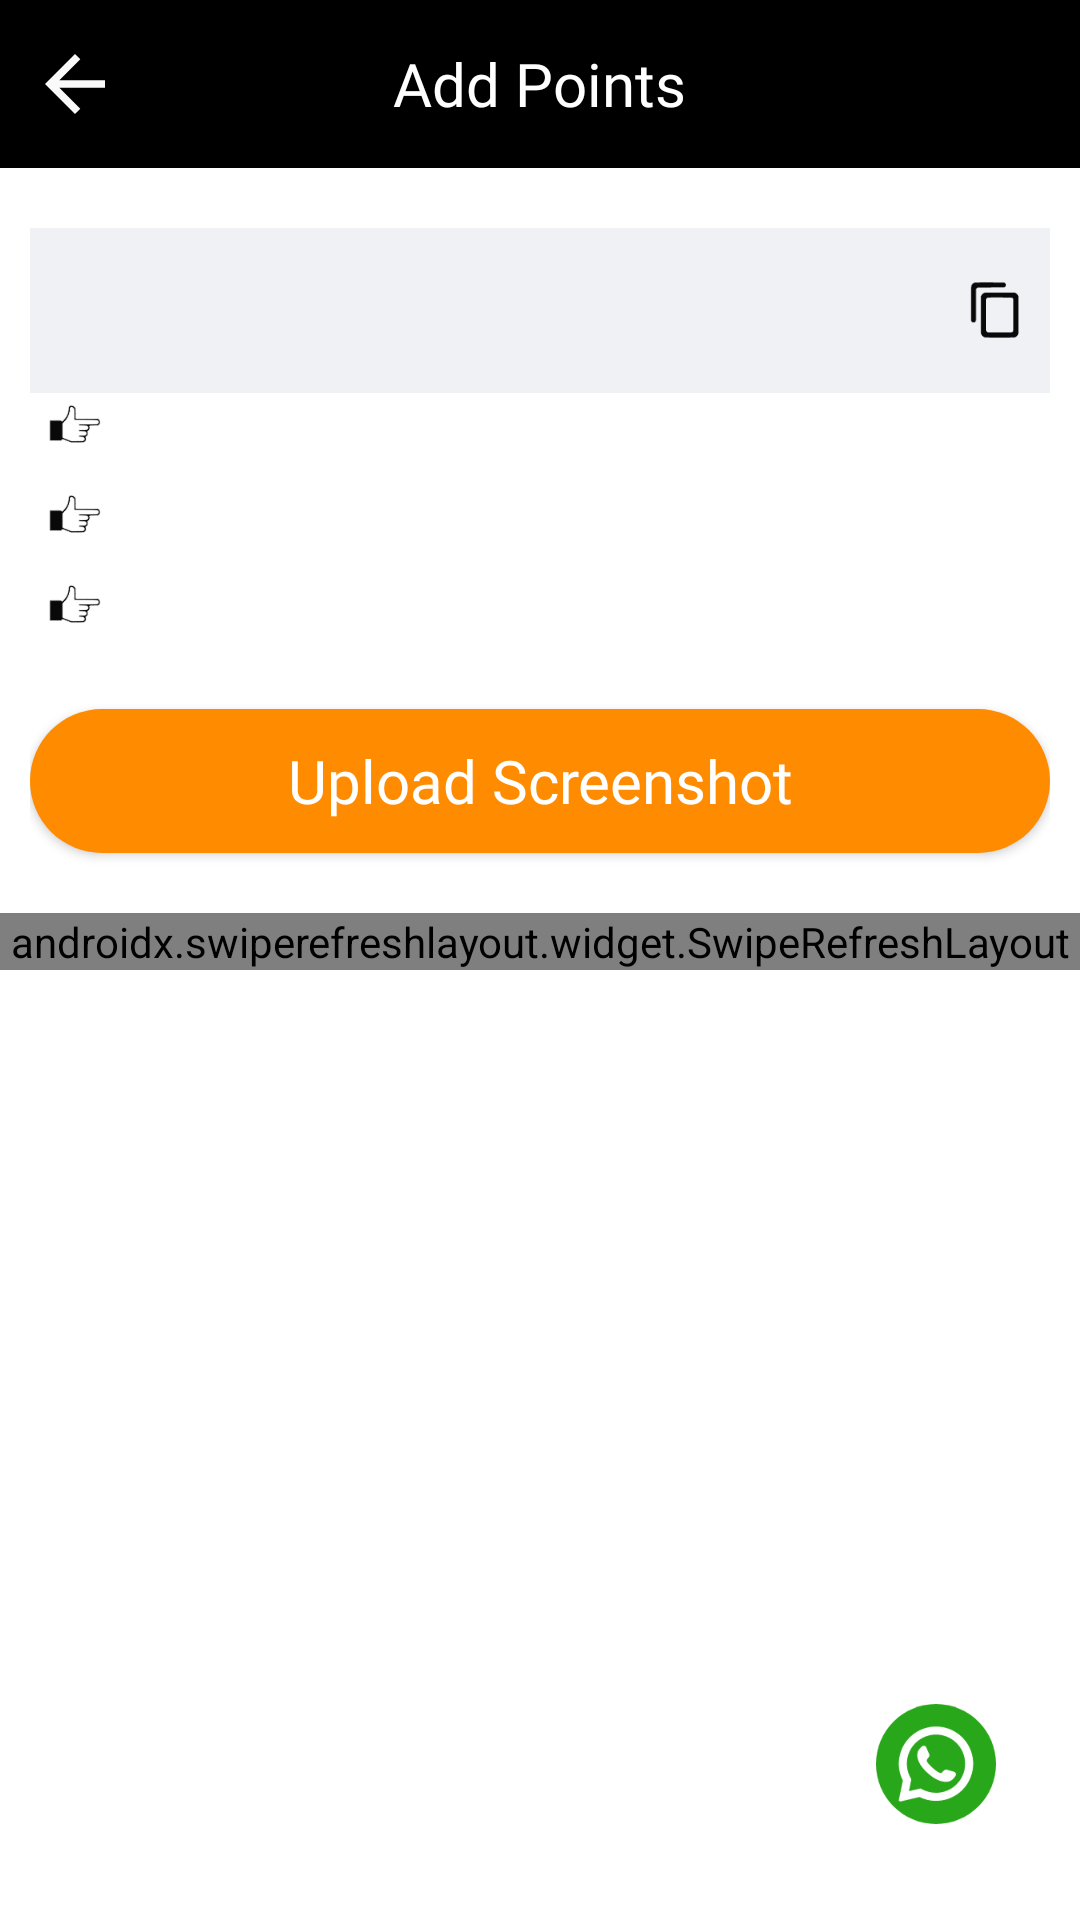

Icon bounding boxes for this 1080x1920 phone screenshot, format box=[x1, y1, x2, y2]:
arrow back: box=[45, 54, 105, 114]
